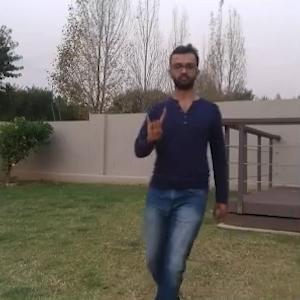takeoff-hand: (140, 104, 166, 142)
